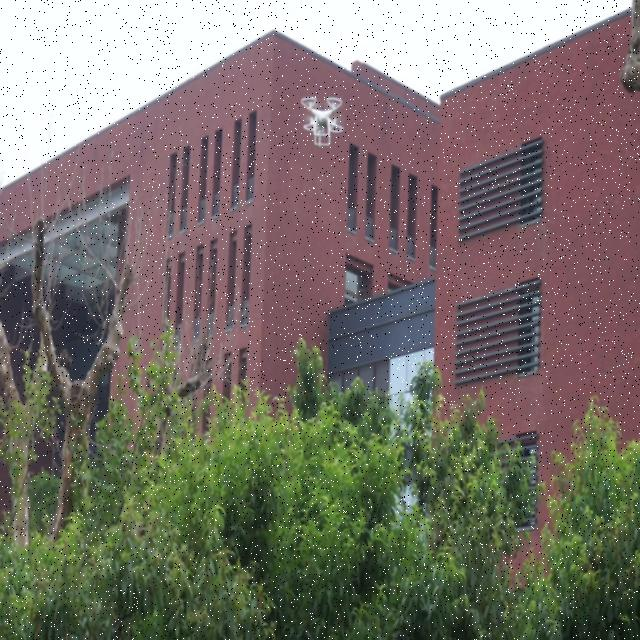UAV: (301, 96, 344, 147)
